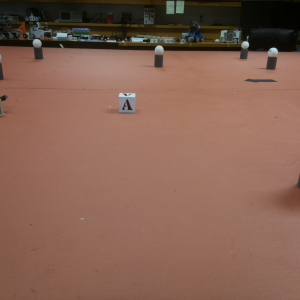blockA: (116, 89, 136, 114)
obstacle: (148, 43, 167, 70), (264, 47, 279, 71), (31, 37, 46, 60), (238, 41, 252, 64)
start: (243, 74, 282, 94)
